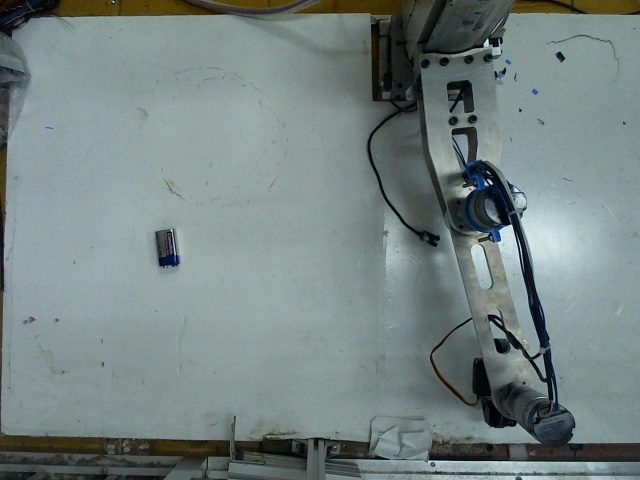battery: (150, 223, 183, 267)
